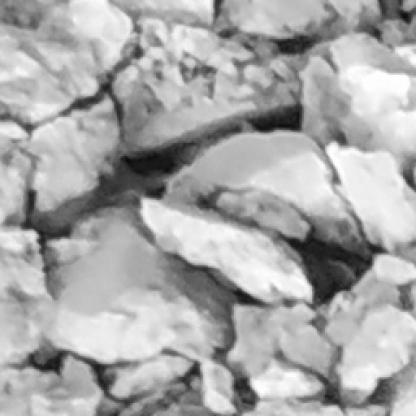cementitious_debris: (2, 3, 414, 414)
